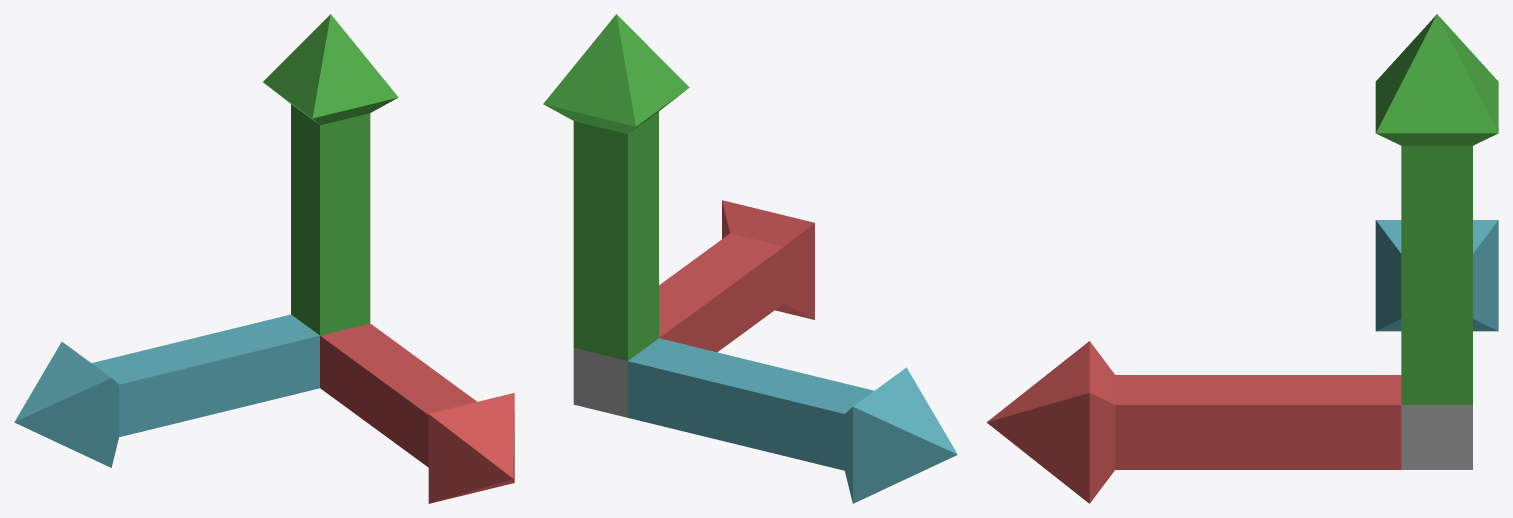
The model's file is axis.fbx.
3 views of the same model, side by side, from view 1: azimuth 30°, elevation 25°; view 2: azimuth 150°, elevation 25°; view 3: azimuth 270°, elevation 25° (orthographic). The views are drawn at different scales.
Visible parts, largest first — view 1: pCube200; view 2: pCube200; view 3: pCube200.
Boxes of the visible parts, x1=… form: pCube200: x1=14, y1=14, x2=514, y2=503; pCube200: x1=543, y1=14, x2=957, y2=503; pCube200: x1=987, y1=14, x2=1498, y2=503.
Size of the model in its own units: 0.032 by 0.032 by 0.032.
